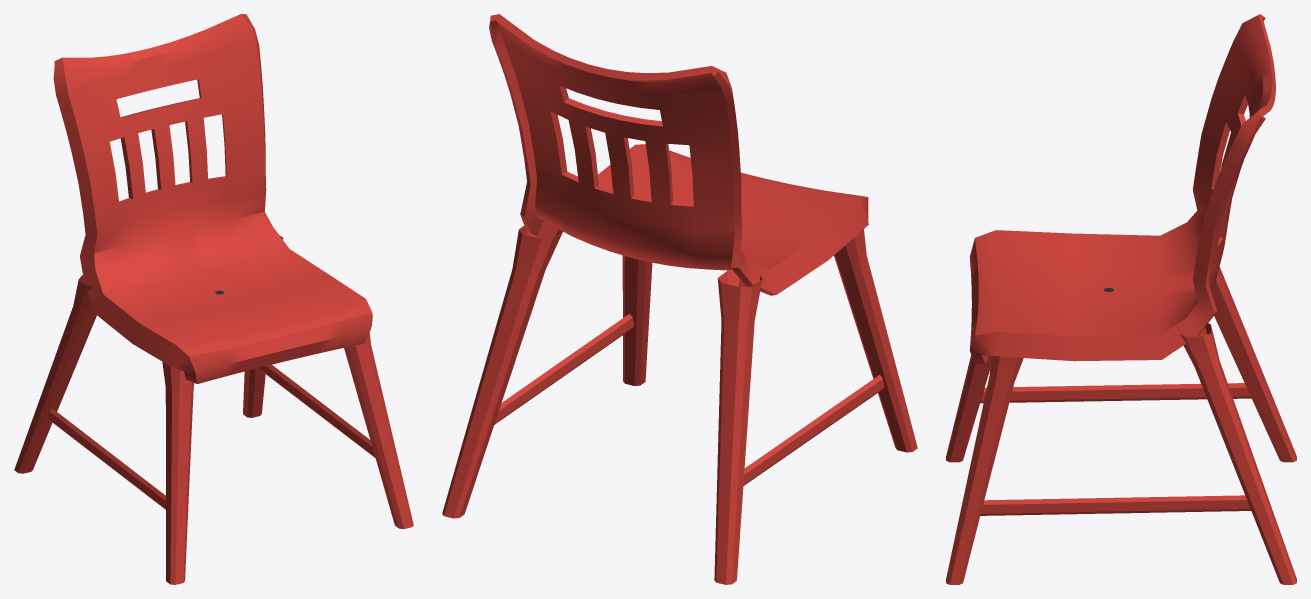
Rendered from SC_Ter_Chair_Plastic_Red.gltf.
The picture shows the model from 3 angles, left to right: view 1: azimuth 30°, elevation 25°; view 2: azimuth 150°, elevation 25°; view 3: azimuth 270°, elevation 25°; orthographic projection. The views are drawn at different scales.
Visible parts, largest first — view 1: SC_Ter_Chair_Plastic_Red; view 2: SC_Ter_Chair_Plastic_Red; view 3: SC_Ter_Chair_Plastic_Red.
Boxes of the visible parts, left/top/right/bottom form: SC_Ter_Chair_Plastic_Red: left=14, top=14, right=413, bottom=584; SC_Ter_Chair_Plastic_Red: left=442, top=14, right=917, bottom=584; SC_Ter_Chair_Plastic_Red: left=946, top=14, right=1296, bottom=584.
Size of the model in its own units: 0.5363 by 0.8763 by 0.6094.
1 material, 1 textured.
